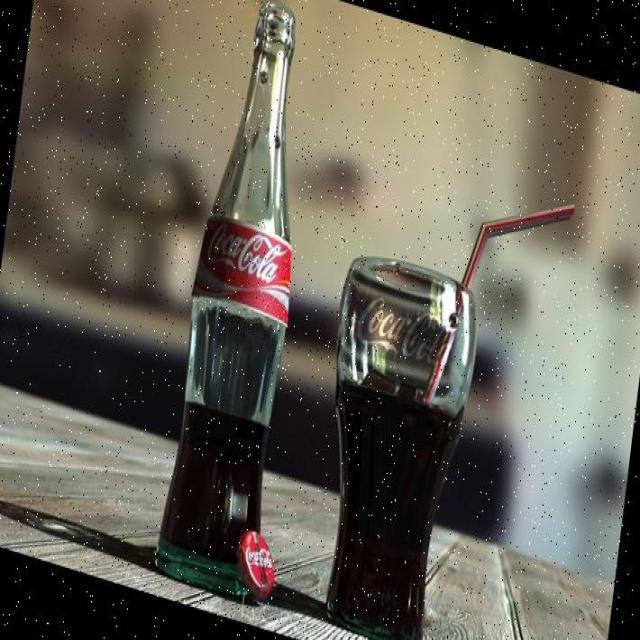coca-cola: (151, 0, 337, 611)
